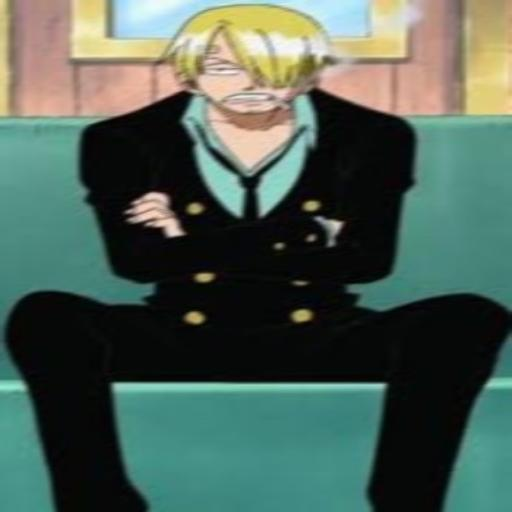sanji: (3, 0, 512, 512)
